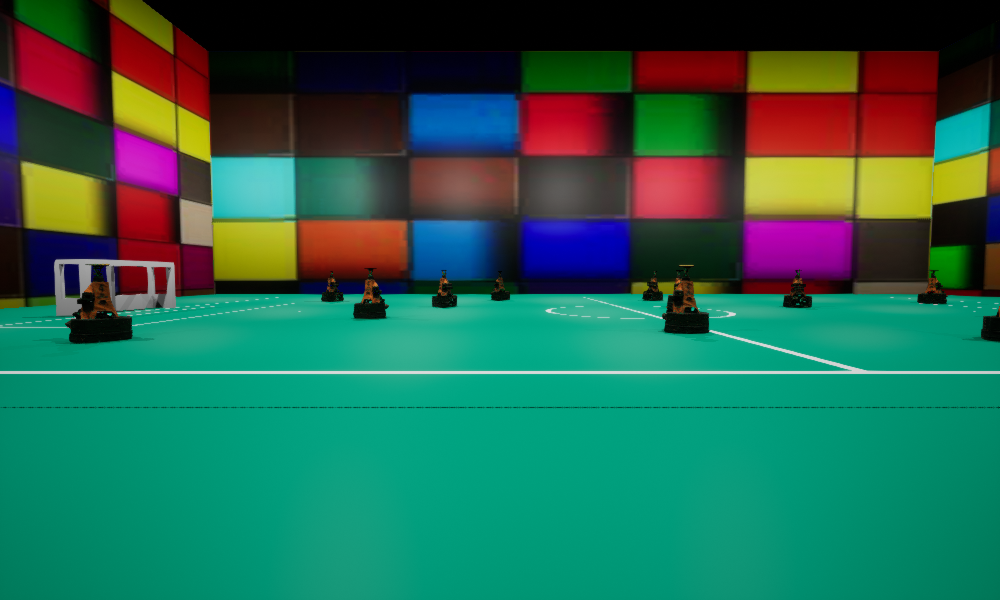0 orange robot TechUnited: (65, 264, 132, 342), (662, 265, 708, 333), (353, 268, 388, 318), (783, 269, 811, 307), (917, 270, 947, 303), (432, 270, 456, 307), (321, 271, 343, 301), (981, 306, 999, 341), (642, 271, 662, 300), (490, 271, 509, 300), (667, 270, 682, 306)
